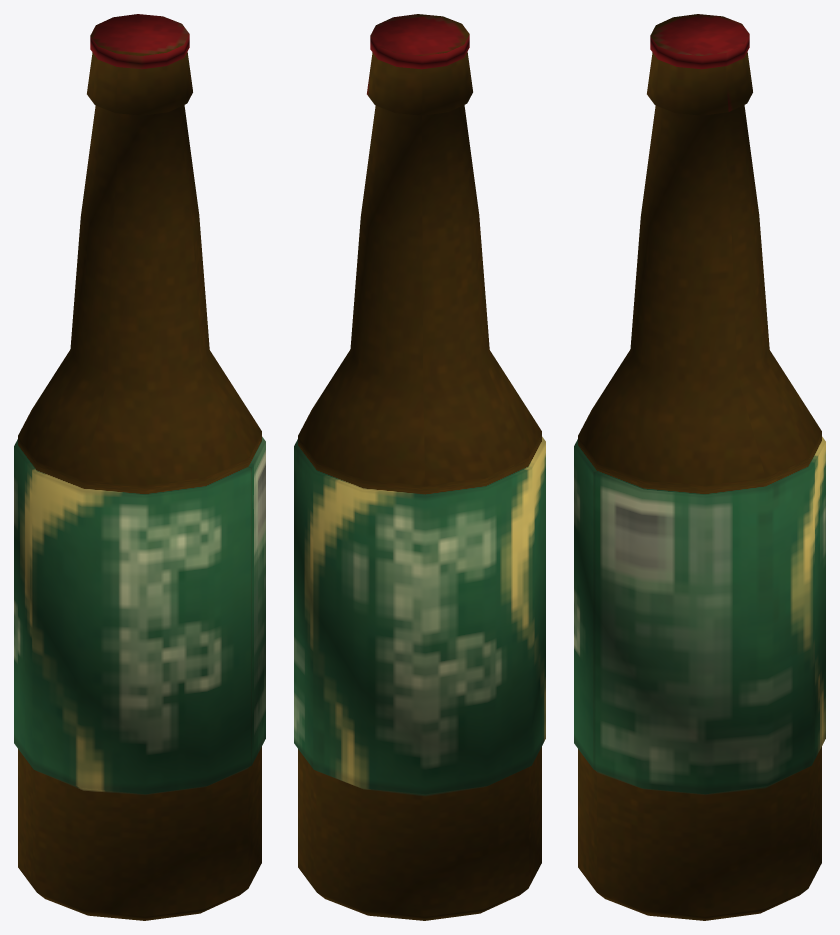
The model's file is beer_bottle.obj.
3 views of the same model, side by side, from view 1: azimuth 30°, elevation 25°; view 2: azimuth 150°, elevation 25°; view 3: azimuth 270°, elevation 25° (orthographic).
Parts seen in each view (by area): view 1: beer_bottle; view 2: beer_bottle; view 3: beer_bottle.
Part boxes in pixels (x1=…): beer_bottle: x1=14, y1=14, x2=265, y2=920; beer_bottle: x1=294, y1=14, x2=545, y2=920; beer_bottle: x1=574, y1=14, x2=825, y2=920.
Bounding box in the file's own units: 0.0794 × 0.292 × 0.0794.
